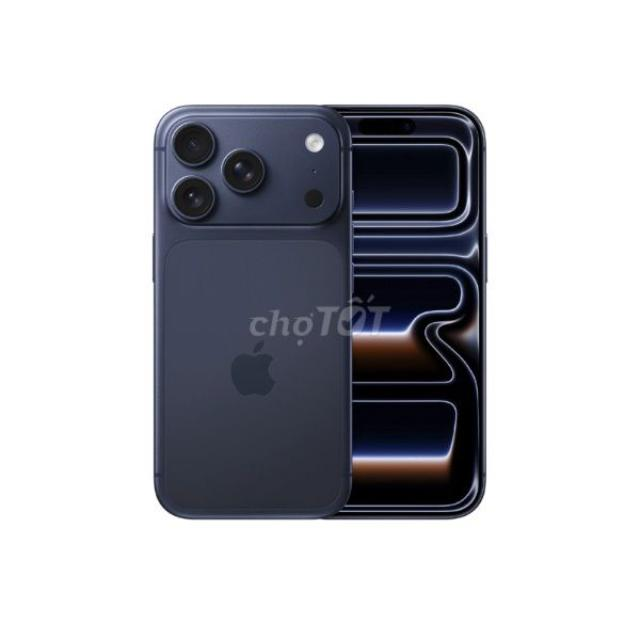gen_17: (144, 101, 355, 522)
